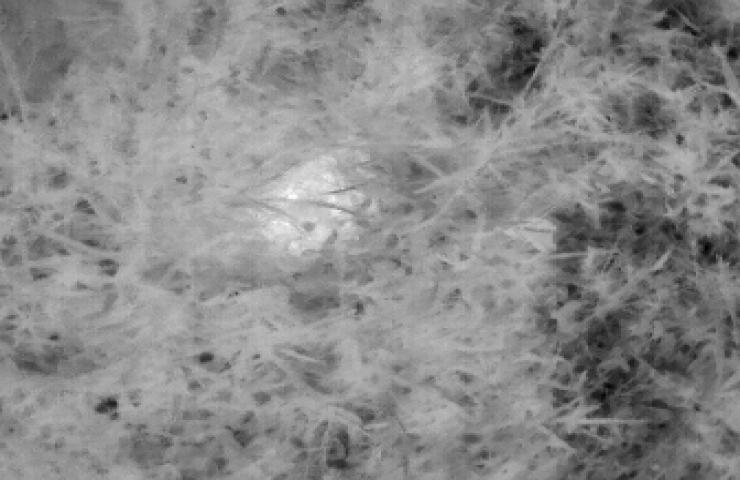landmines: (254, 155, 382, 266)
